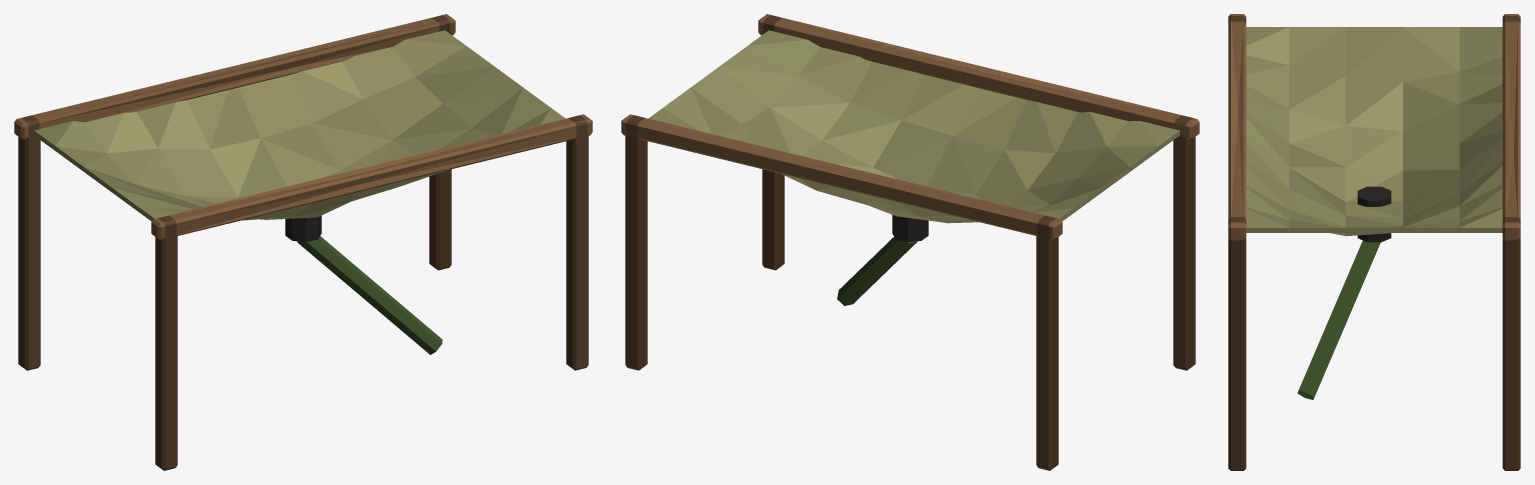
The model's file is rain_collector_plenka_i_zhelob_idle.glb.
The picture shows the model from 3 angles, left to right: view 1: azimuth 30°, elevation 25°; view 2: azimuth 150°, elevation 25°; view 3: azimuth 270°, elevation 25°; orthographic projection.
Parts seen in each view (by area): view 1: rain_collector_plenka_i_zhelob_idle; view 2: rain_collector_plenka_i_zhelob_idle; view 3: rain_collector_plenka_i_zhelob_idle.
Boxes of the visible parts, box(x1,y1,x2,y2) form: rain_collector_plenka_i_zhelob_idle: box(14, 14, 592, 470); rain_collector_plenka_i_zhelob_idle: box(621, 14, 1199, 470); rain_collector_plenka_i_zhelob_idle: box(1228, 14, 1520, 470).
Size of the model in its own units: 1.1 by 0.6 by 0.64.
1 material, 1 textured.
